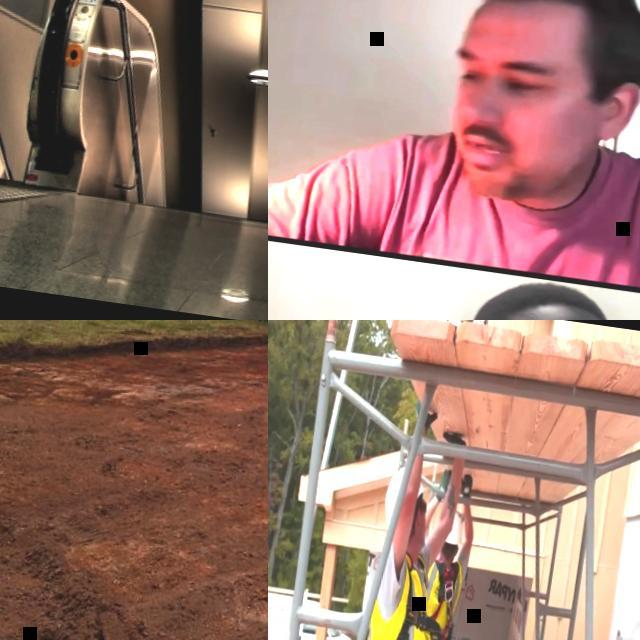helmet: (380, 464, 428, 536), (442, 511, 466, 546)
vest: (352, 547, 451, 640), (413, 552, 465, 640)
